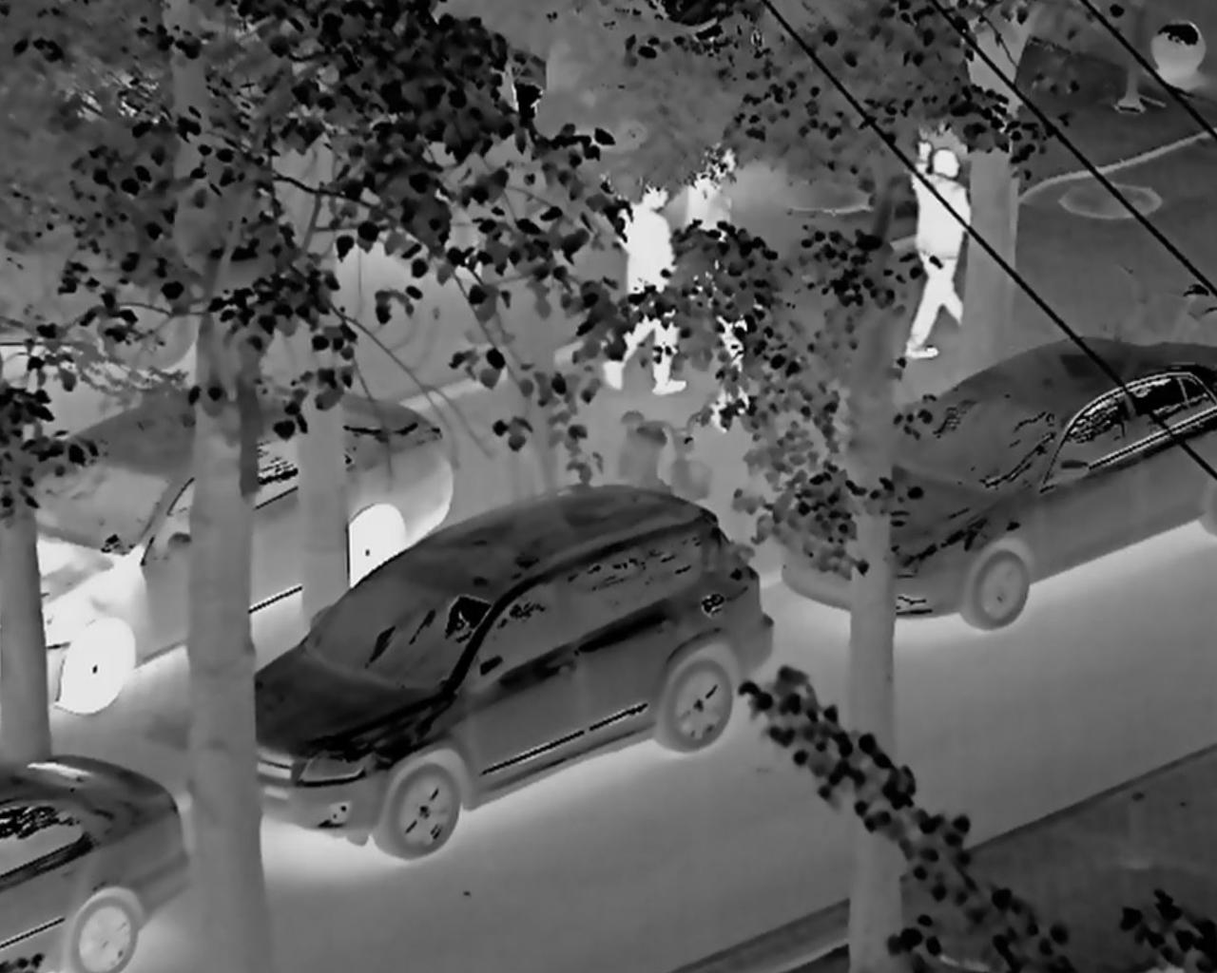person: (888, 132, 988, 380), (608, 172, 678, 404), (681, 144, 754, 353)
